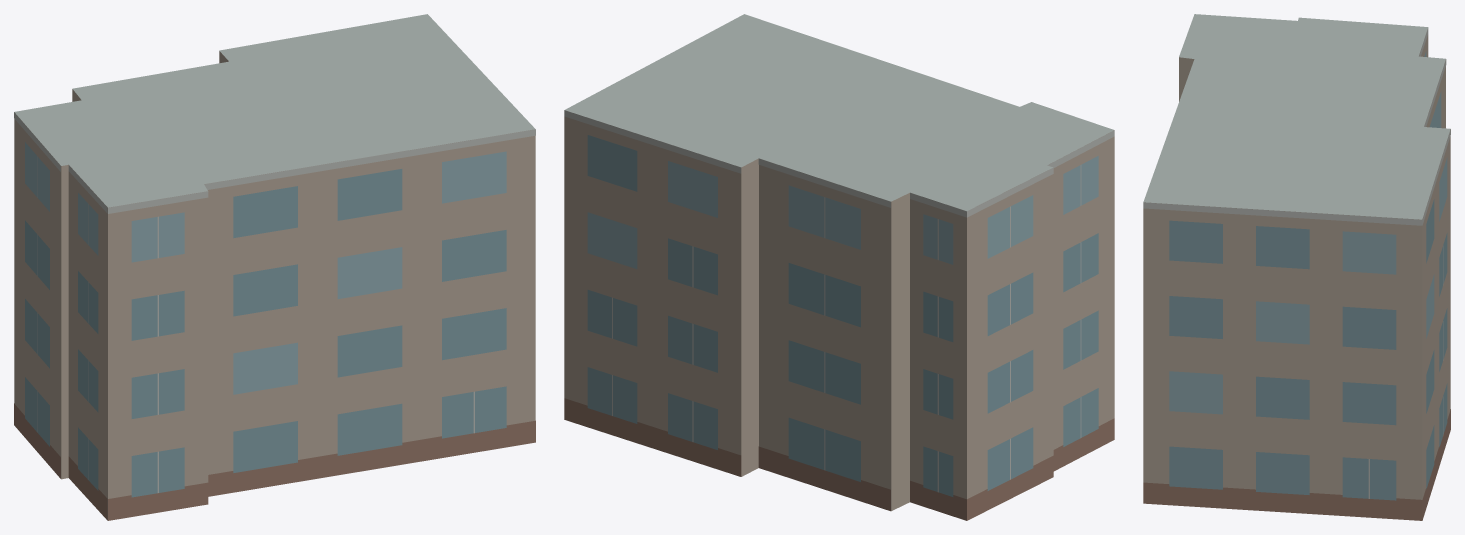
The model's file is survey-upis-32787382.glb.
The picture shows the model from 3 angles, left to right: view 1: azimuth 30°, elevation 25°; view 2: azimuth 150°, elevation 25°; view 3: azimuth 270°, elevation 25°; orthographic projection. The views are drawn at different scales.
Visible parts, largest first — view 1: survey-upis-32787382.tmp; view 2: survey-upis-32787382.tmp; view 3: survey-upis-32787382.tmp.
Part boxes in pixels (x1,y1,x2,y2): survey-upis-32787382.tmp: (14,14,535,520); survey-upis-32787382.tmp: (564,14,1114,520); survey-upis-32787382.tmp: (1143,14,1450,520).
Bounding box in the file's own units: 17.43 × 11.9 × 11.02.
